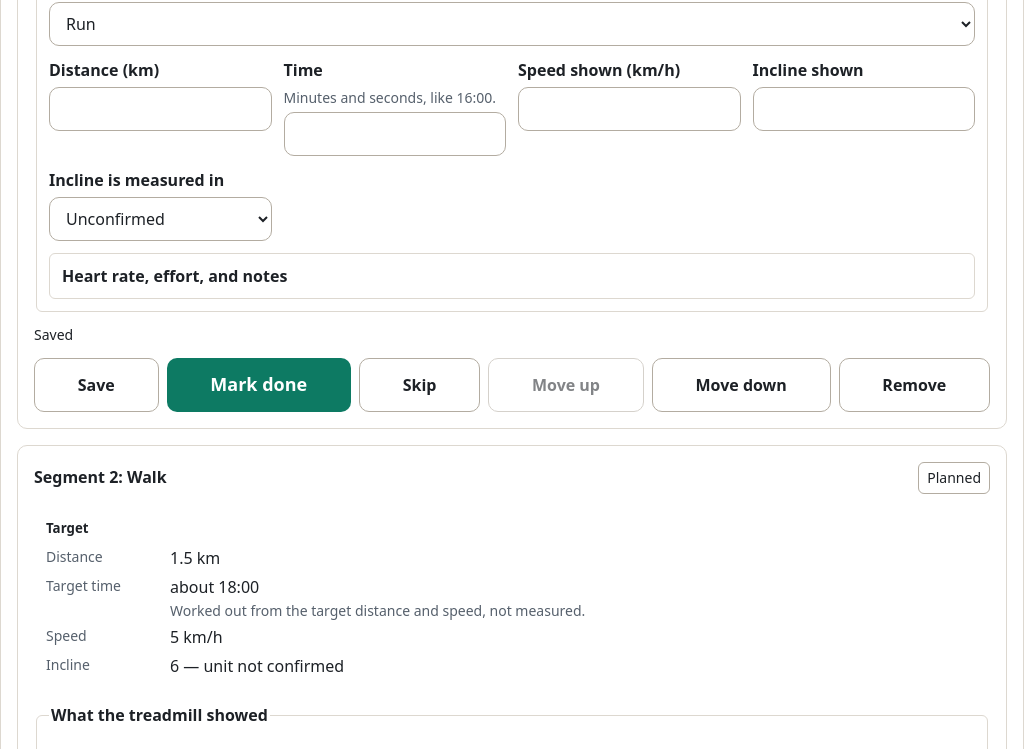
Test case: completing a segment › refuses a completion with nothing recorded, and explains why
(page scrolled)
Step 1. Click the button "Mark done" → click(259, 385), box [167,358,351,412]
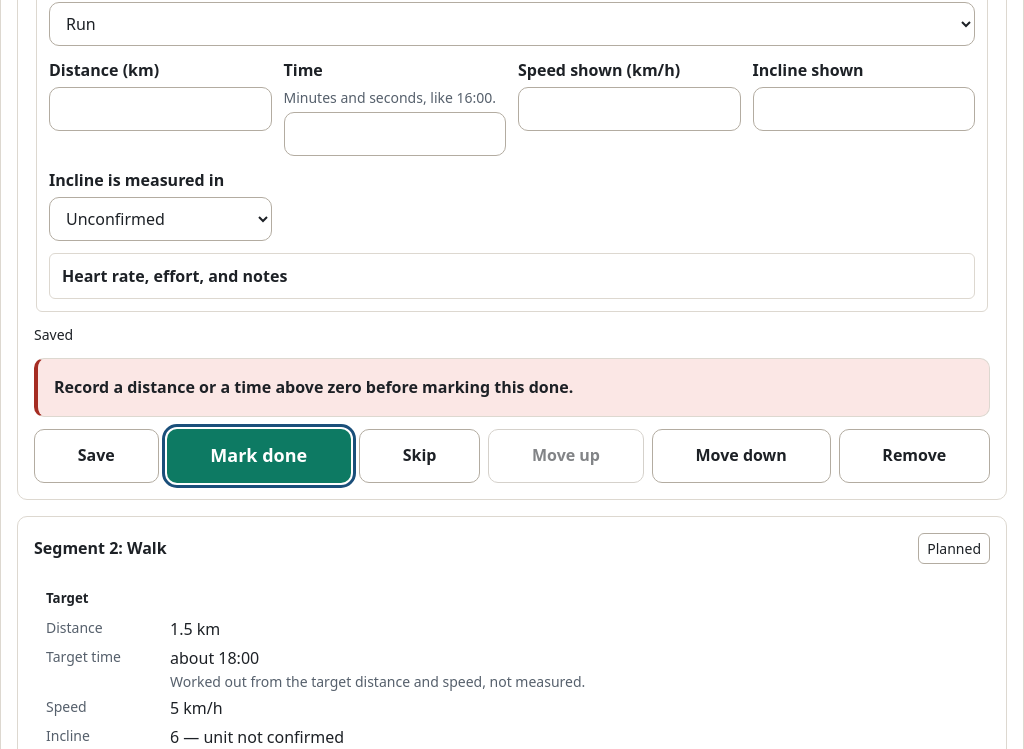
Expected: the text "Record a distance or a time above zero before marking this done." is shown, [54,376,573,398]
